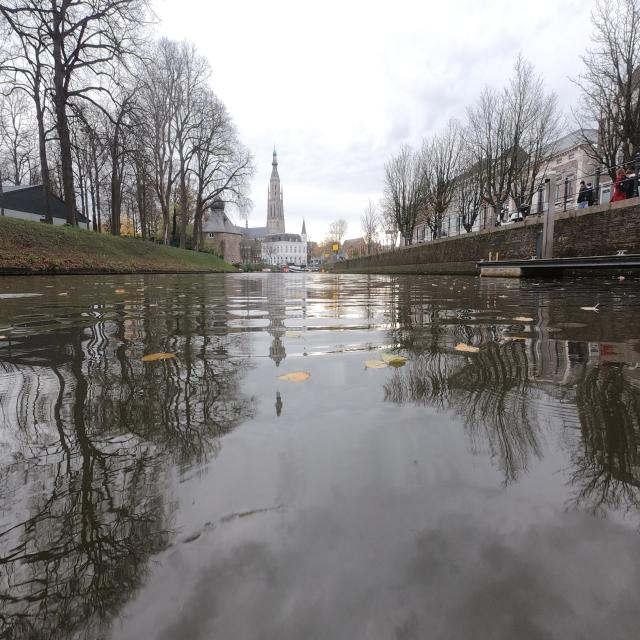dock: (330, 216, 561, 277), (551, 201, 640, 259), (476, 254, 640, 277), (478, 264, 530, 278)
grass: (0, 220, 236, 272)
sky: (154, 4, 592, 238)
tree: (467, 55, 562, 221), (572, 0, 640, 179), (189, 90, 250, 251), (143, 38, 184, 244), (52, 1, 77, 226), (422, 118, 464, 237), (380, 144, 426, 244), (110, 98, 128, 236)
wall: (322, 216, 542, 266)
water: (0, 272, 640, 640)
